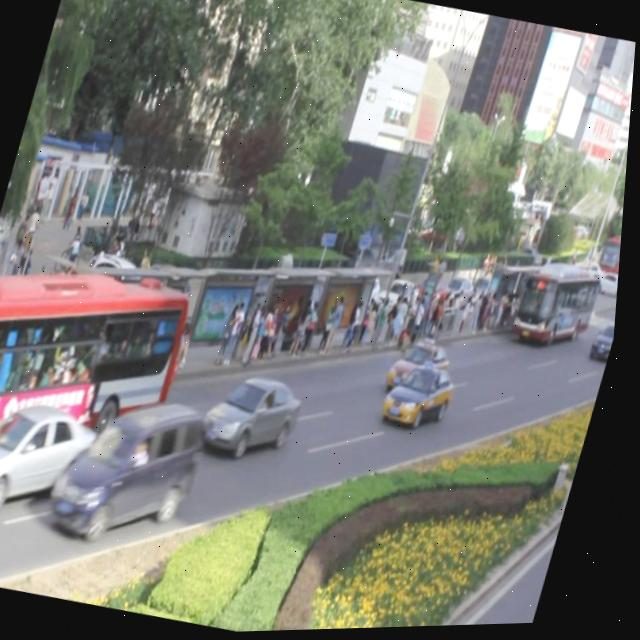car: (0, 389, 108, 522), (202, 363, 312, 464), (384, 360, 463, 435), (389, 334, 458, 400), (593, 320, 620, 363)
truck: (52, 380, 217, 549)
van: (0, 247, 200, 517), (512, 257, 608, 352)
